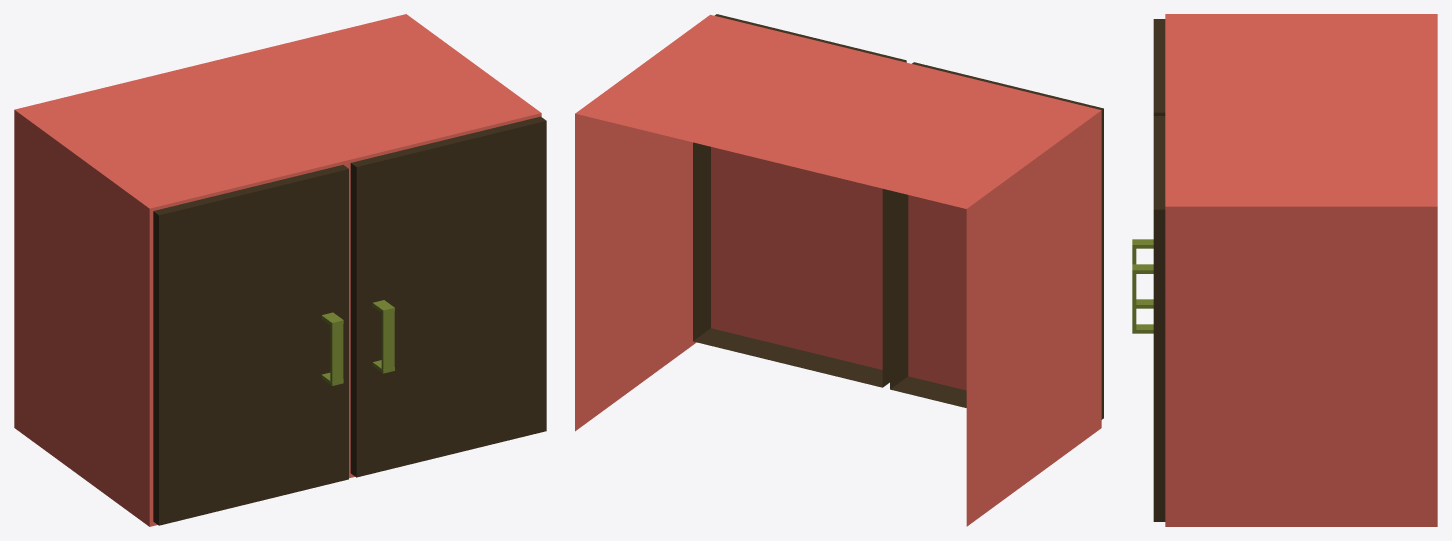
The model's file is 4 countertop.fbx.
3 renders of one model, left to right at view 1: azimuth 30°, elevation 25°; view 2: azimuth 150°, elevation 25°; view 3: azimuth 270°, elevation 25°, orthographic.
Parts seen in each view (by area): view 1: 4 countertop; view 2: 4 countertop; view 3: 4 countertop.
Boxes of the visible parts, left/top/right/bottom form: 4 countertop: left=14, top=14, right=546, bottom=526; 4 countertop: left=575, top=14, right=1103, bottom=526; 4 countertop: left=1132, top=14, right=1437, bottom=526.
Size of the model in its own units: 61.95 by 48.07 by 41.54.
